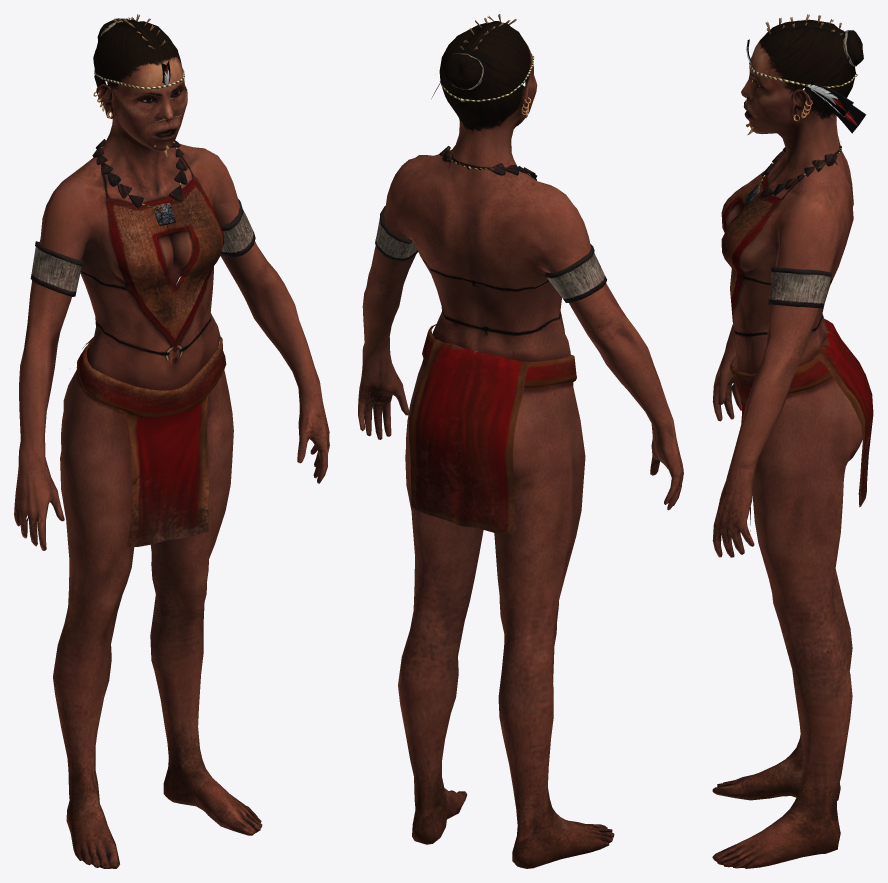
Rendered from indianWoman.gltf.
The picture shows the model from 3 angles, left to right: view 1: azimuth 30°, elevation 25°; view 2: azimuth 150°, elevation 25°; view 3: azimuth 270°, elevation 25°; orthographic projection. The views are drawn at different scales.
Parts seen in each view (by area): view 1: objMesh; view 2: objMesh; view 3: objMesh.
Boxes of the visible parts, x1,y1,x2,y2 form: objMesh: (14,14,329,868); objMesh: (358,14,683,868); objMesh: (712,14,873,868).
Size of the model in its own units: 14.45 by 35.63 by 6.4.
Materials: 1 (1 with a texture image).
